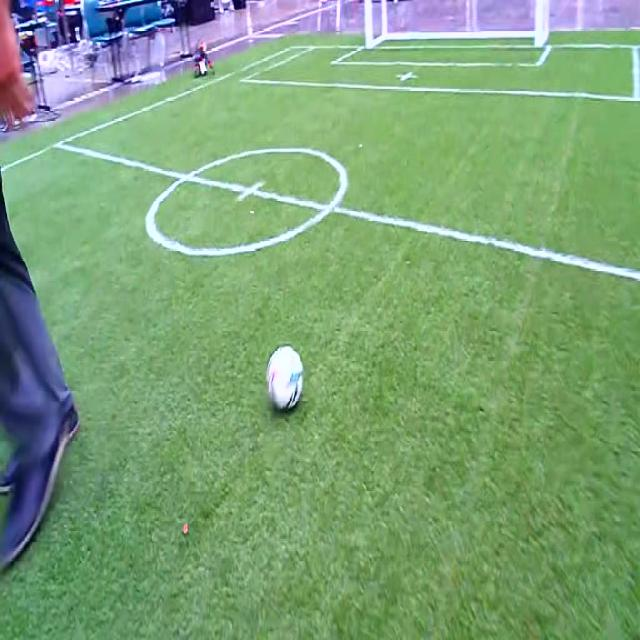ball: (266, 345, 303, 411)
